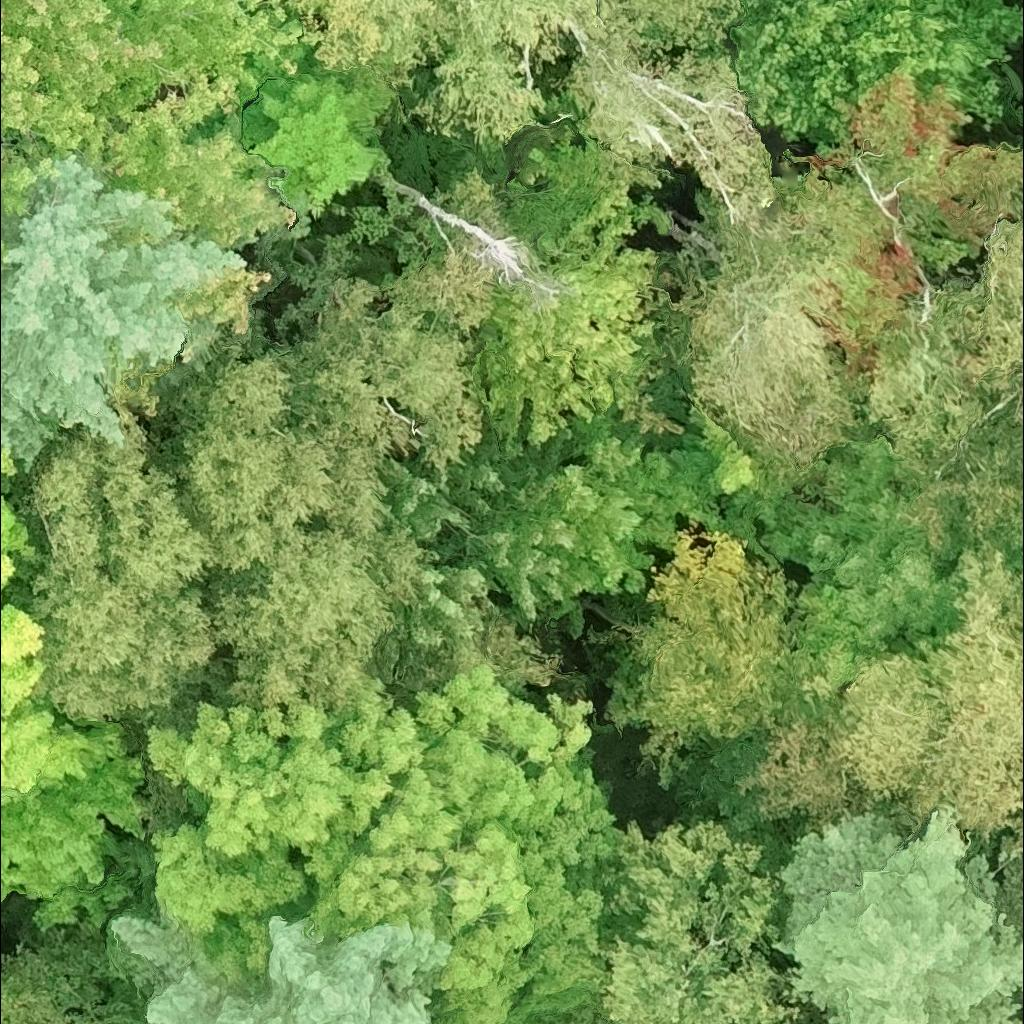crown: (143, 662, 630, 1023), (4, 343, 402, 752), (284, 0, 773, 241), (694, 65, 1023, 373), (0, 149, 253, 477), (281, 277, 484, 619), (384, 426, 685, 648), (468, 177, 692, 458), (769, 795, 1023, 1023), (599, 529, 800, 792), (0, 449, 128, 807), (591, 816, 807, 1023), (869, 279, 1023, 568), (726, 0, 1023, 147), (891, 538, 1023, 855), (673, 261, 861, 483), (108, 909, 454, 1023), (100, 71, 301, 251), (756, 650, 948, 823), (788, 529, 961, 717), (240, 39, 401, 221), (0, 0, 172, 168), (0, 748, 151, 934), (111, 0, 309, 110), (952, 215, 1023, 426), (679, 389, 797, 511), (0, 931, 149, 1023), (172, 264, 277, 346), (639, 445, 724, 533), (0, 148, 60, 225), (991, 833, 1023, 927), (0, 238, 7, 275), (802, 1012, 825, 1023)
